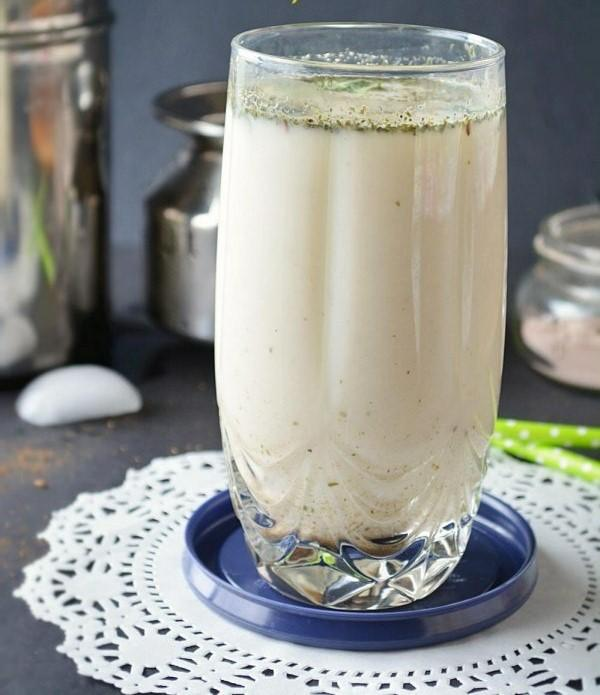Lassi: (214, 78, 509, 539)
